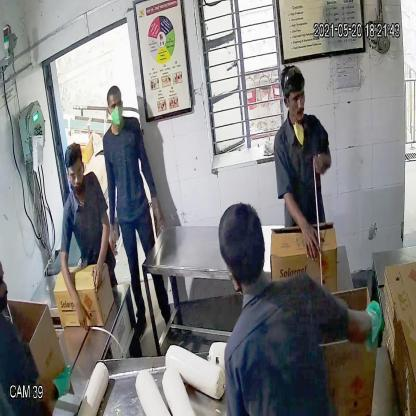goggles: (67, 165, 85, 182)
no_goggles: (285, 88, 308, 106), (104, 96, 125, 113)
